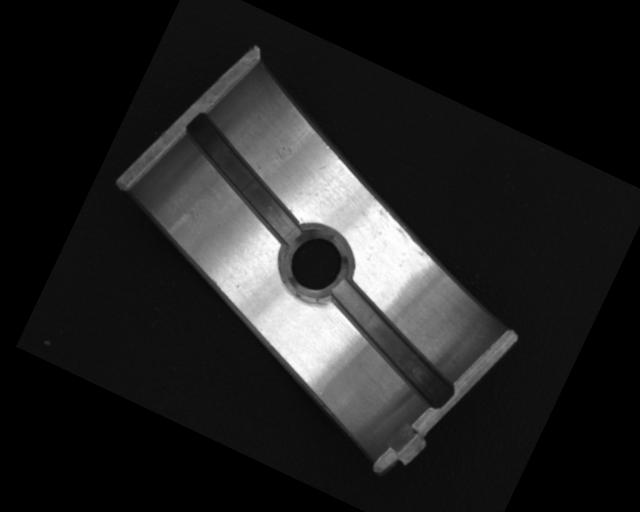gap: (159, 109, 331, 248), (308, 276, 476, 410)
hole: (271, 217, 361, 310)
